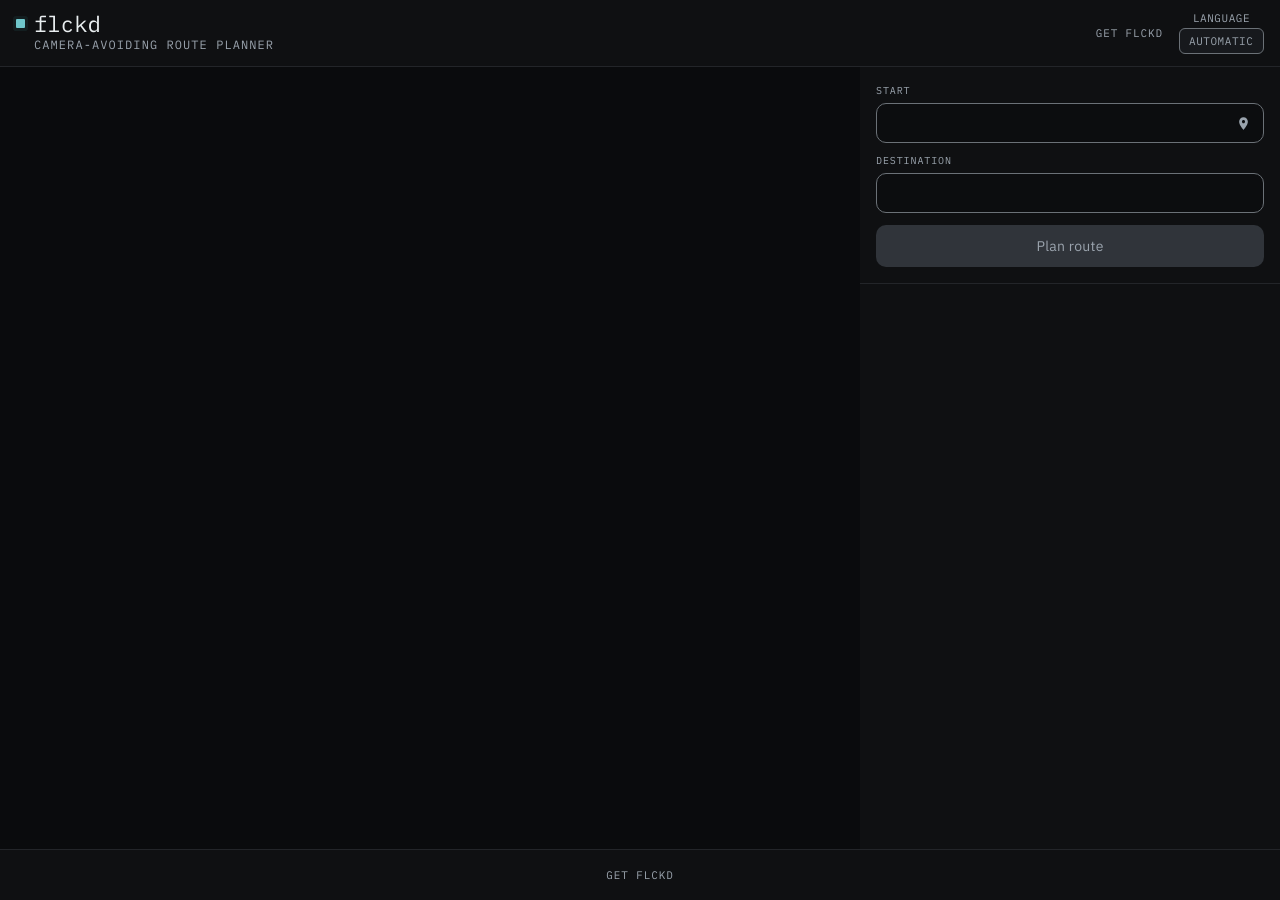
Test: PlanRoutePage document structure › exposes headings with no skipped level
Type "des m" into the dropdown labelled "Start" at {"x": 1070, "y": 123}, box [876,103,1264,143]
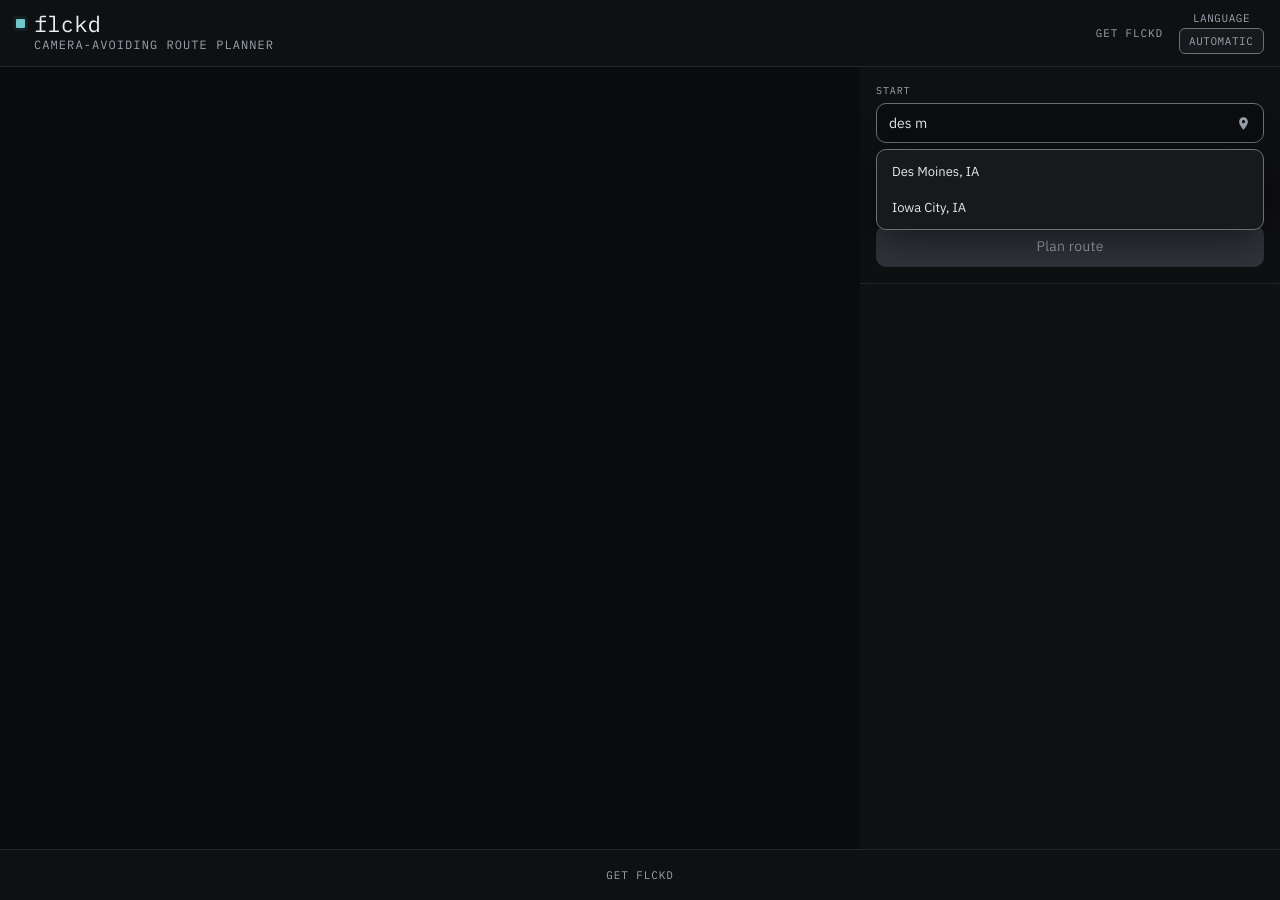
Click the option "Des Moines, IA" at {"x": 936, "y": 172}, box [881,154,1259,190]
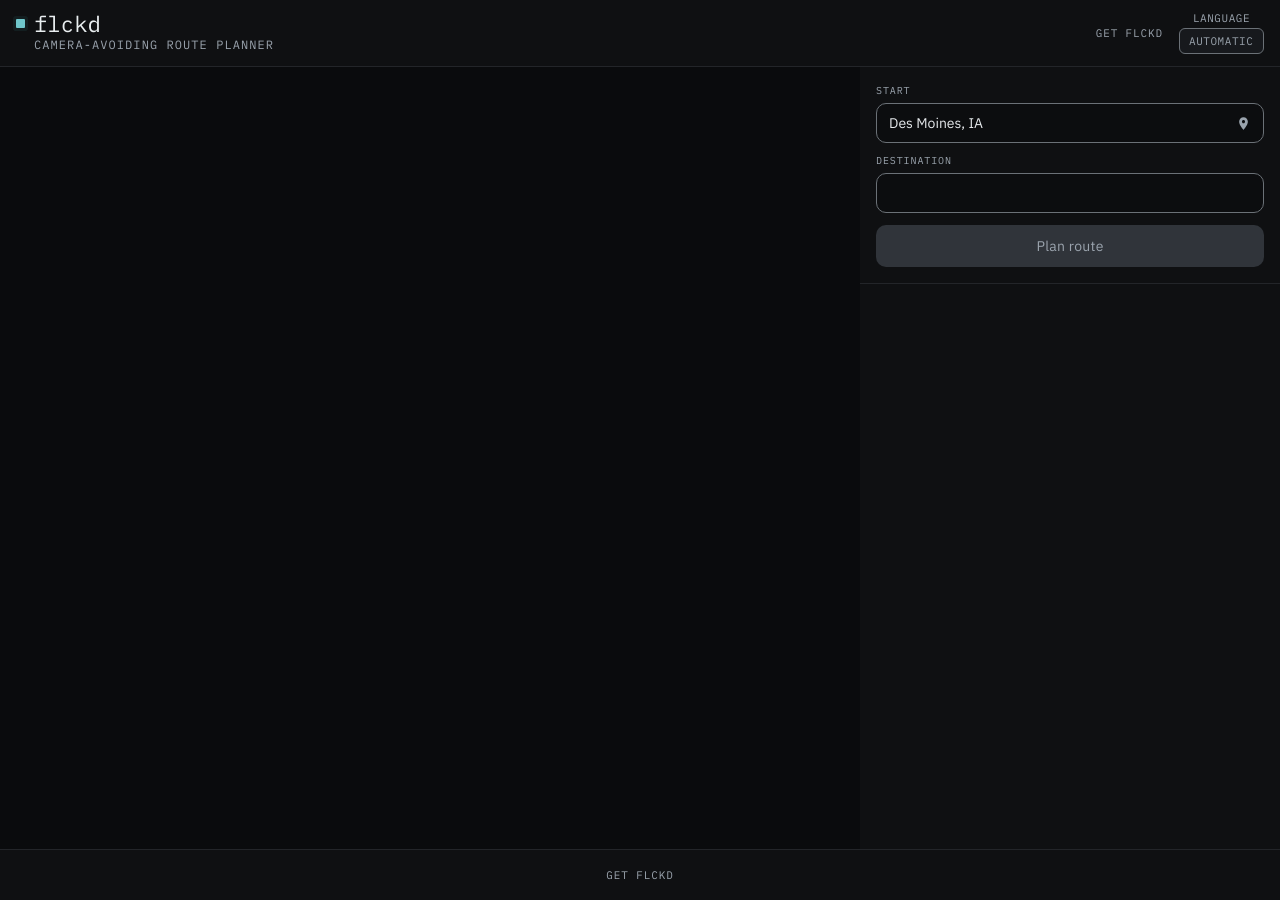
Type "iowa" into the dropdown labelled "Destination" at {"x": 1070, "y": 193}, box [876,173,1264,213]
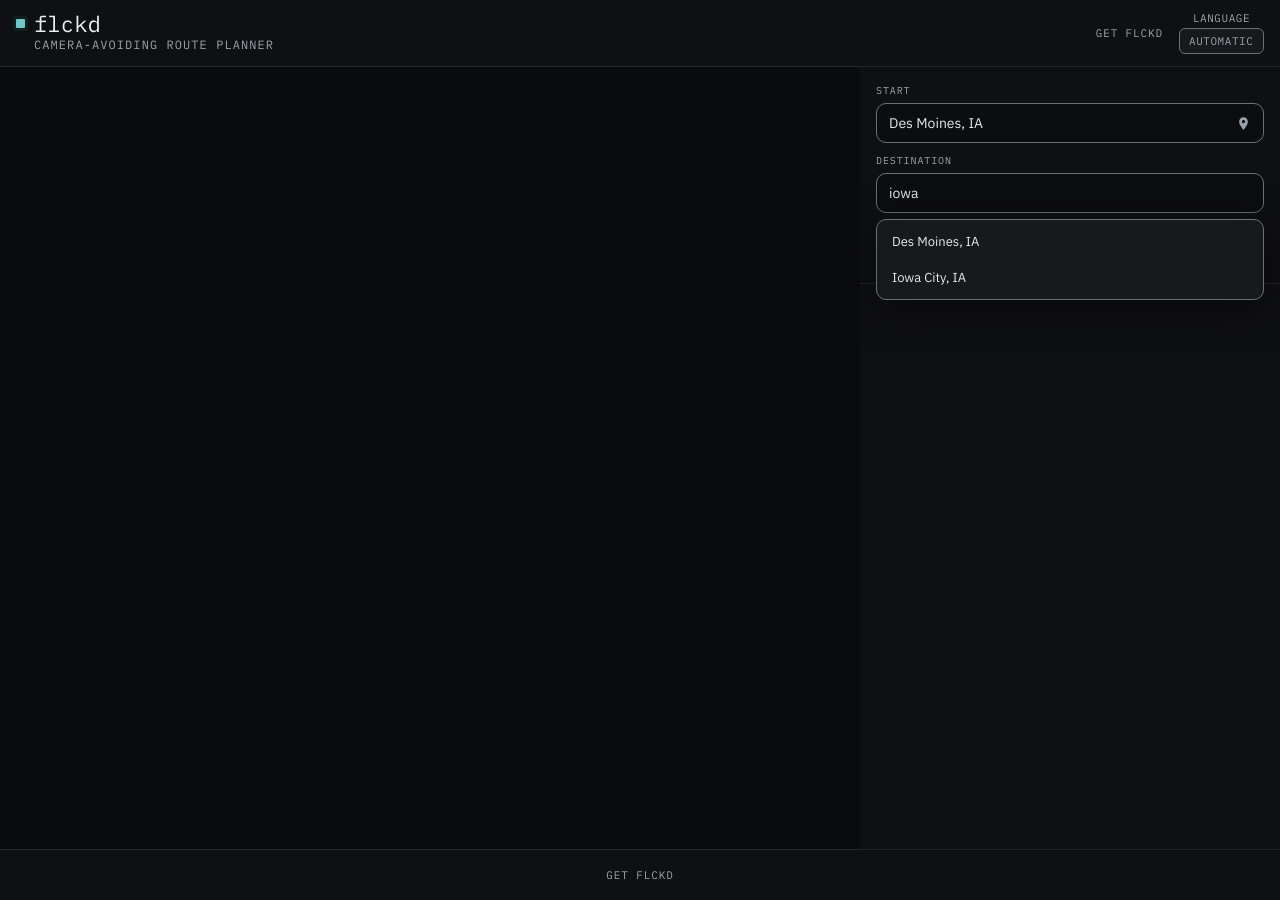
Click the option "Iowa City, IA" at {"x": 929, "y": 277}, box [881,260,1259,295]
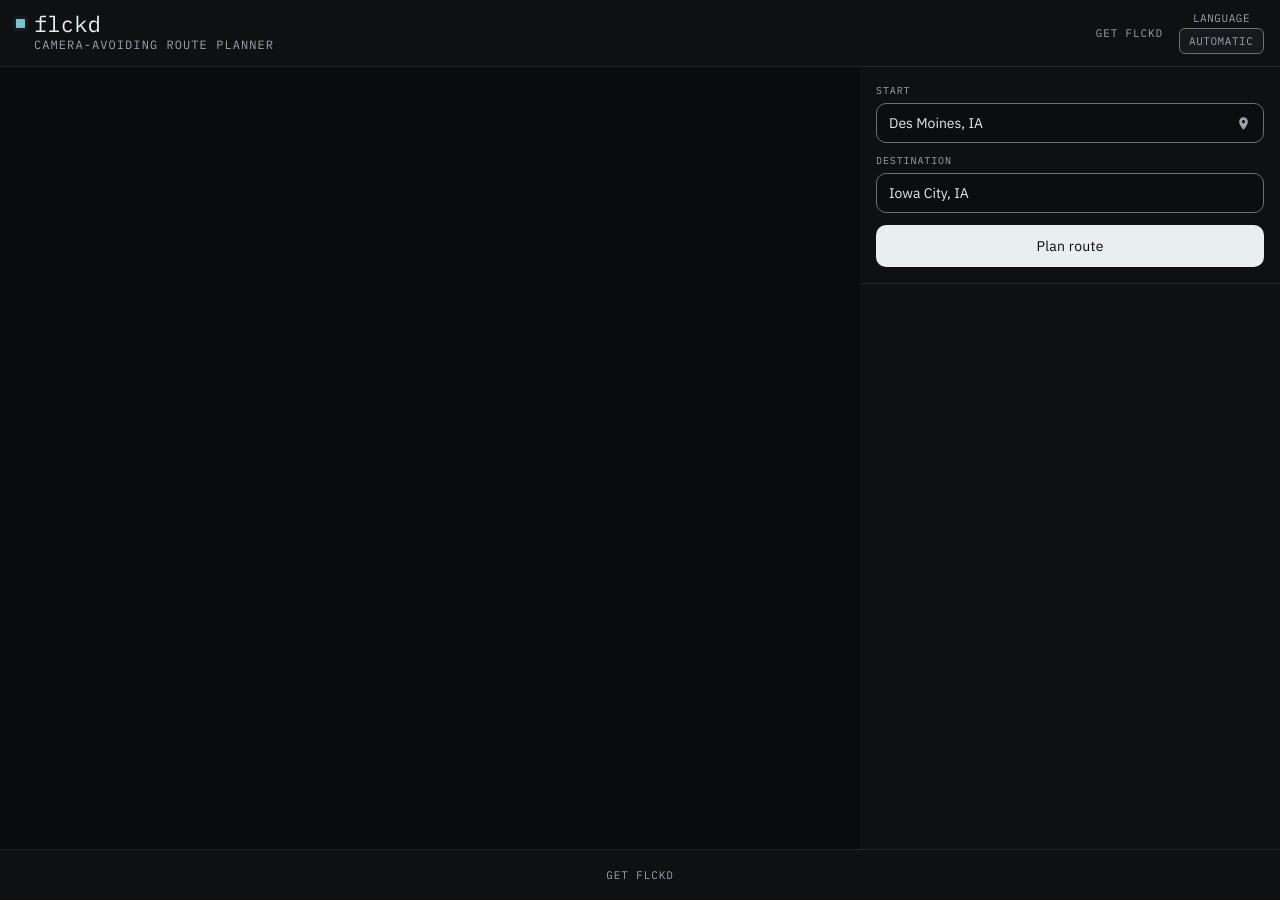
Click the button "Plan route" at {"x": 1070, "y": 246}, box [876,225,1264,267]
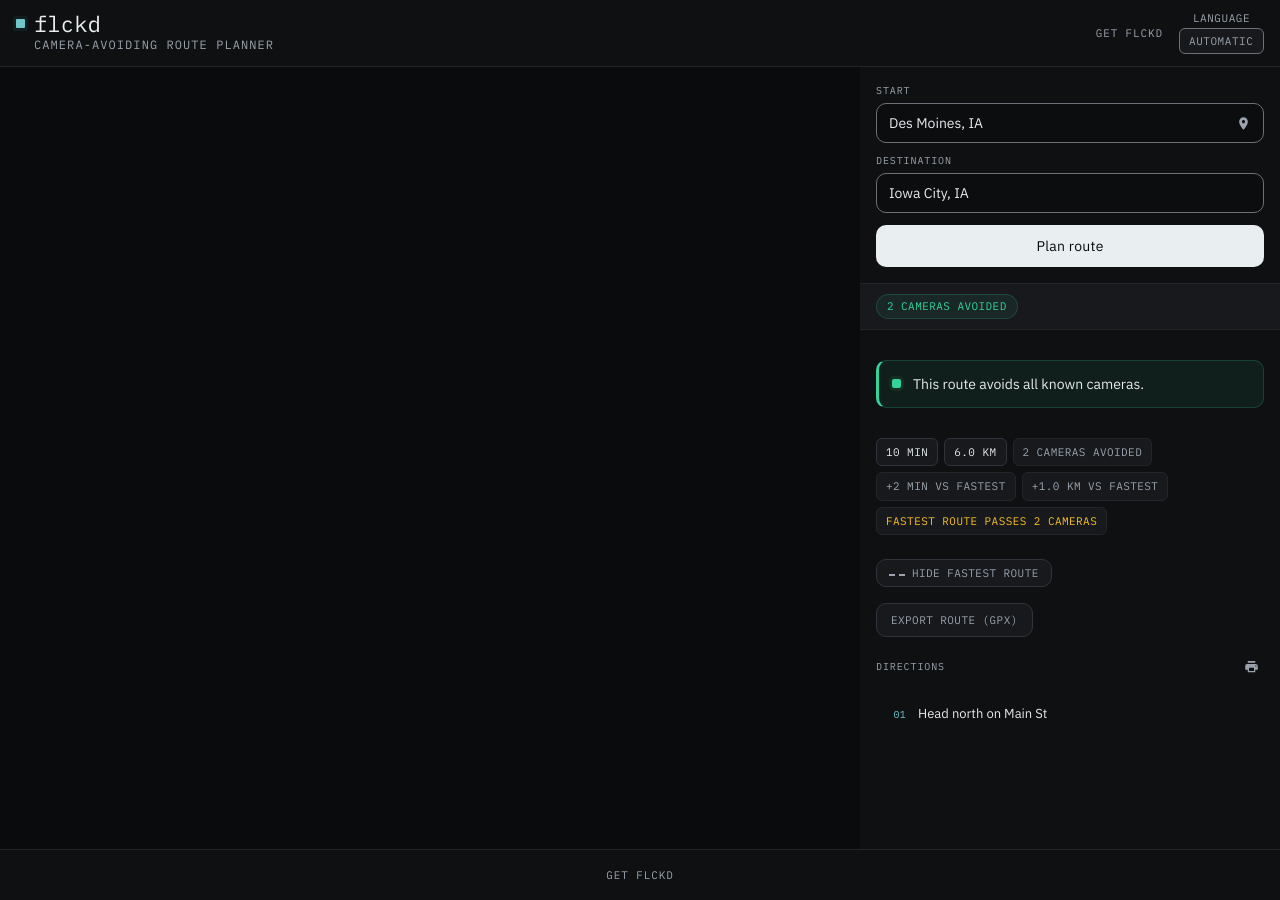
Expected: the heading "Directions" is shown, [876,659,945,674]
